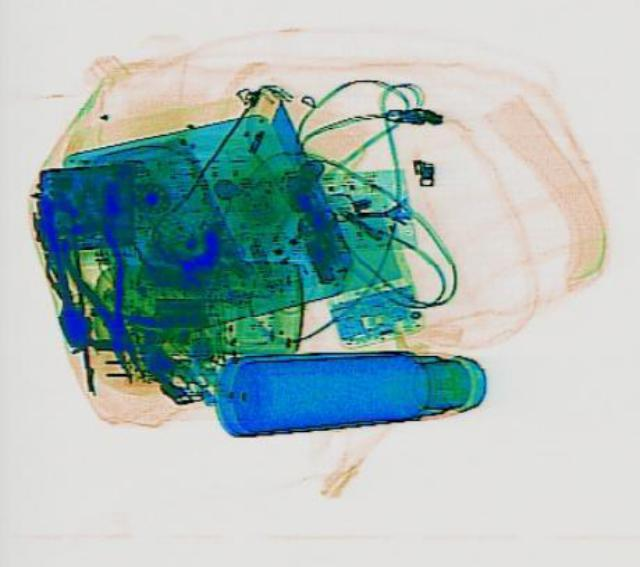Pliers: (39, 182, 162, 387)
